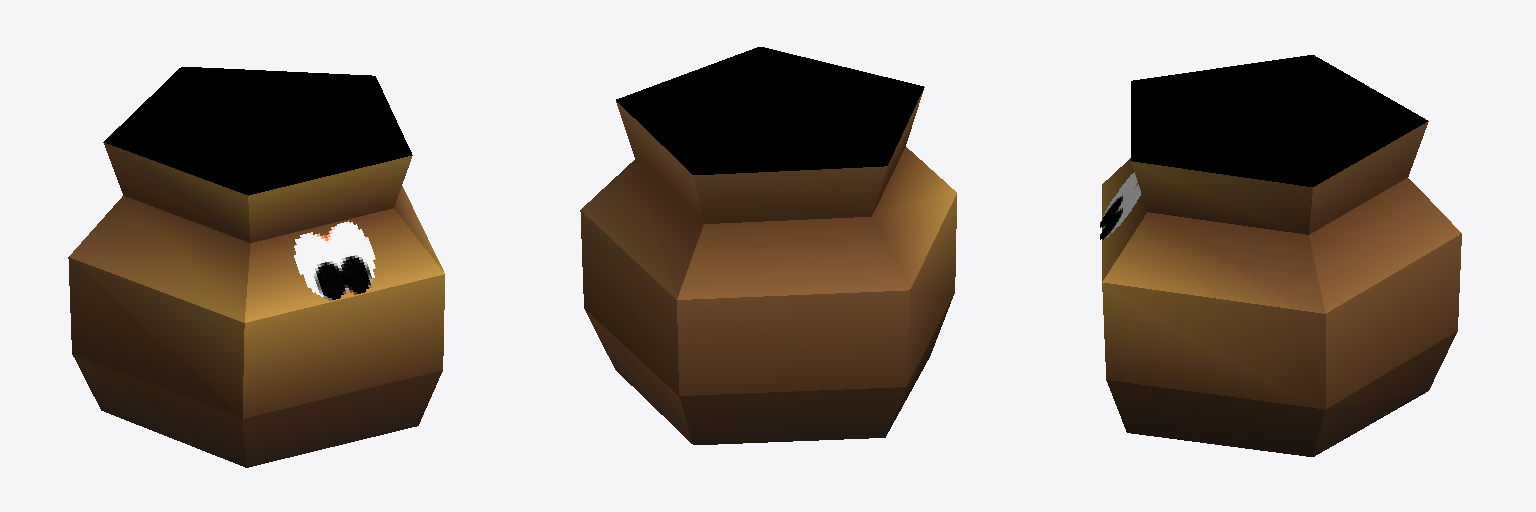
3 renders of one model, left to right at view 1: azimuth 30°, elevation 25°; view 2: azimuth 150°, elevation 25°; view 3: azimuth 270°, elevation 25°, orthographic.
Visible parts, largest first — view 1: 6, object 1; view 2: 6; view 3: 6, object 1.
Part boxes in pixels (x1,y1,x2,y2): 6: (68, 67, 444, 467); object 1: (294, 221, 375, 300); 6: (580, 47, 956, 444); 6: (1102, 55, 1461, 456); object 1: (1100, 172, 1140, 240).
Bounding box in the file's own units: 8.28 × 6.48 × 7.92.
2 materials, 2 textured.